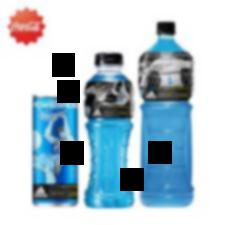powerade_mountainblast: (82, 46, 138, 210)
